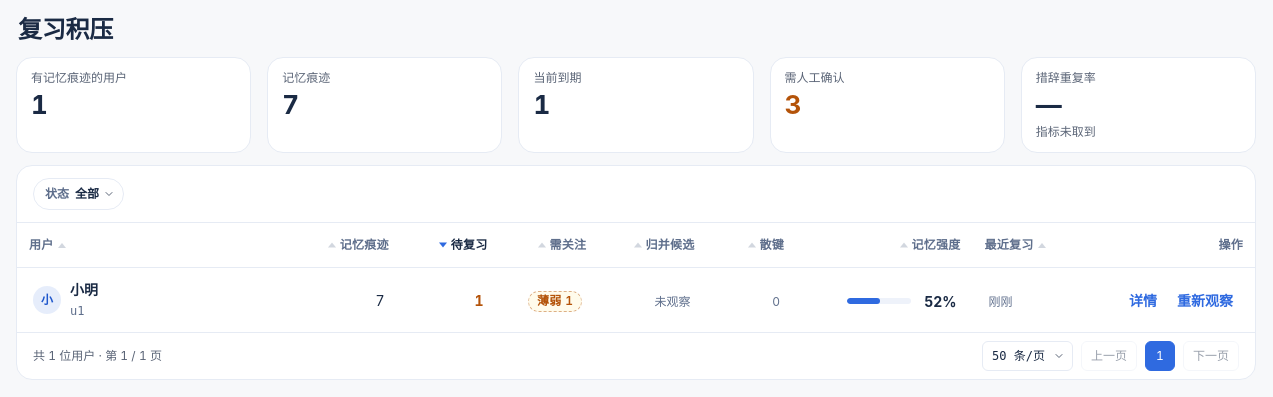
MemoryReviewOverview：跨用户总览（2026-10-12 恢复，2026-10-17 分布带退役） › KPI「需人工确认」可点，点中落到「需关注」快筛
The width and height of the screenshot is (1273, 397).
Click the button with class "mk-kpi" showing "需人工确认 3": (887, 105) [770, 57, 1005, 153]
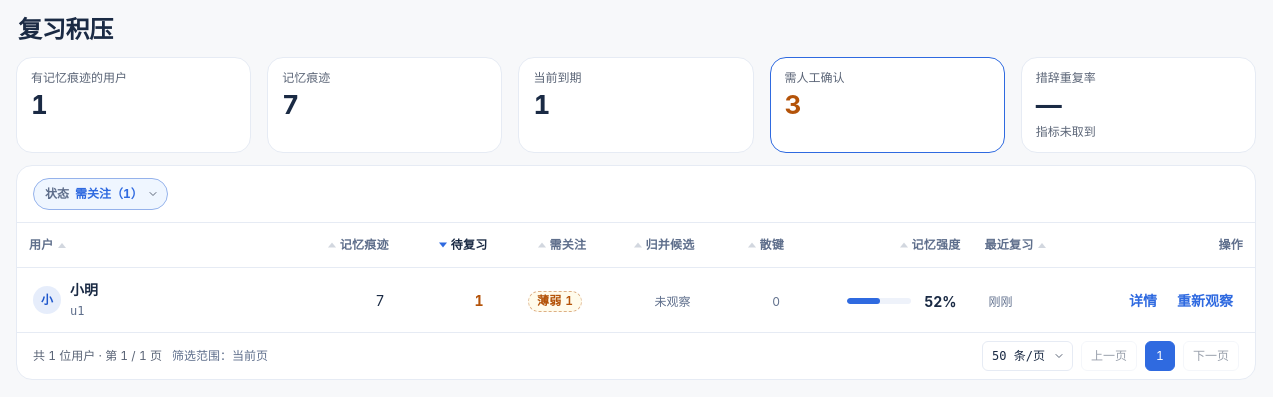
expect the dropdown with class "mk-pill--active" shows "需关注": met, box [33, 178, 168, 210]
expect the text "筛选范围：当前页" is shown: met, box [172, 346, 268, 366]
